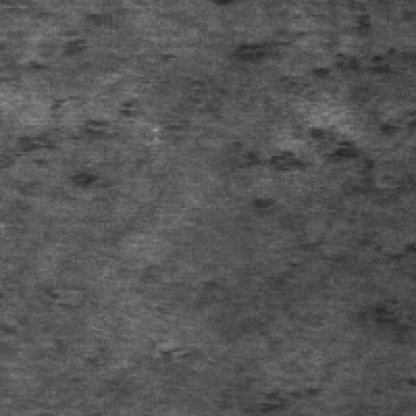rolled-in_scale: (252, 43, 416, 312), (13, 83, 166, 191)
